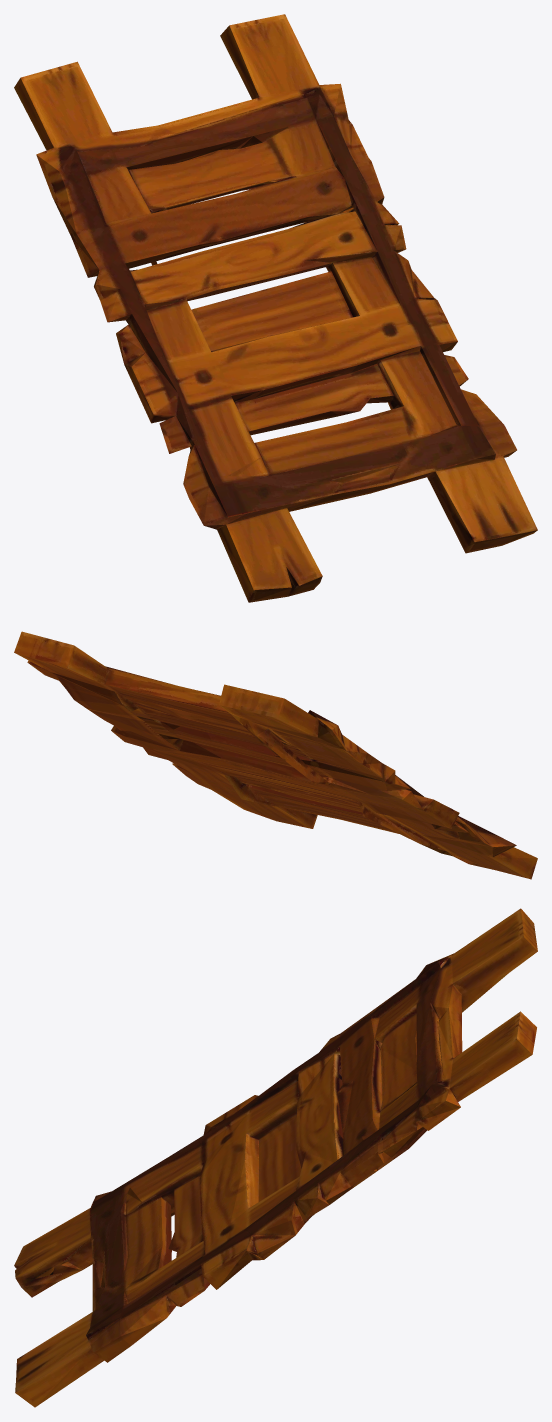
The model's file is wooden_crate.glb.
3 renders of one model, top to bottom at view 1: azimuth 30°, elevation 25°; view 2: azimuth 150°, elevation 25°; view 3: azimuth 270°, elevation 25°, orthographic. The views are drawn at different scales.
Bounding box in the file's own units: 1.4 × 1.53 × 1.98.
1 material, 1 textured.
